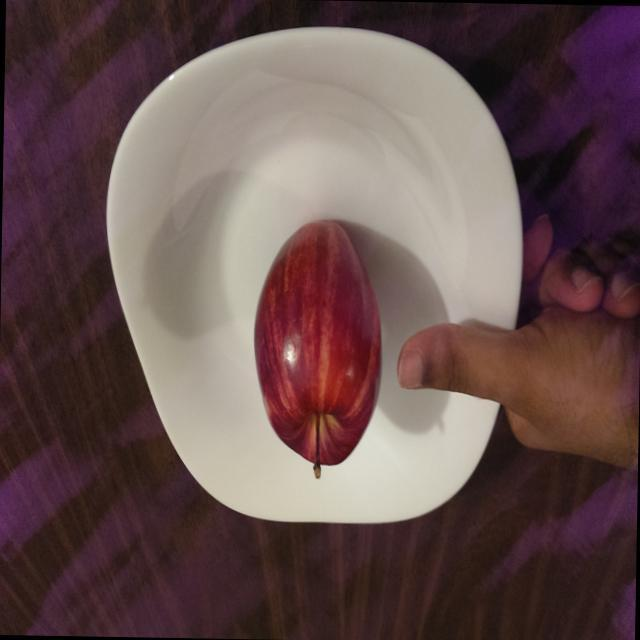Apple: (244, 208, 388, 492)
Finger: (390, 308, 482, 405)
